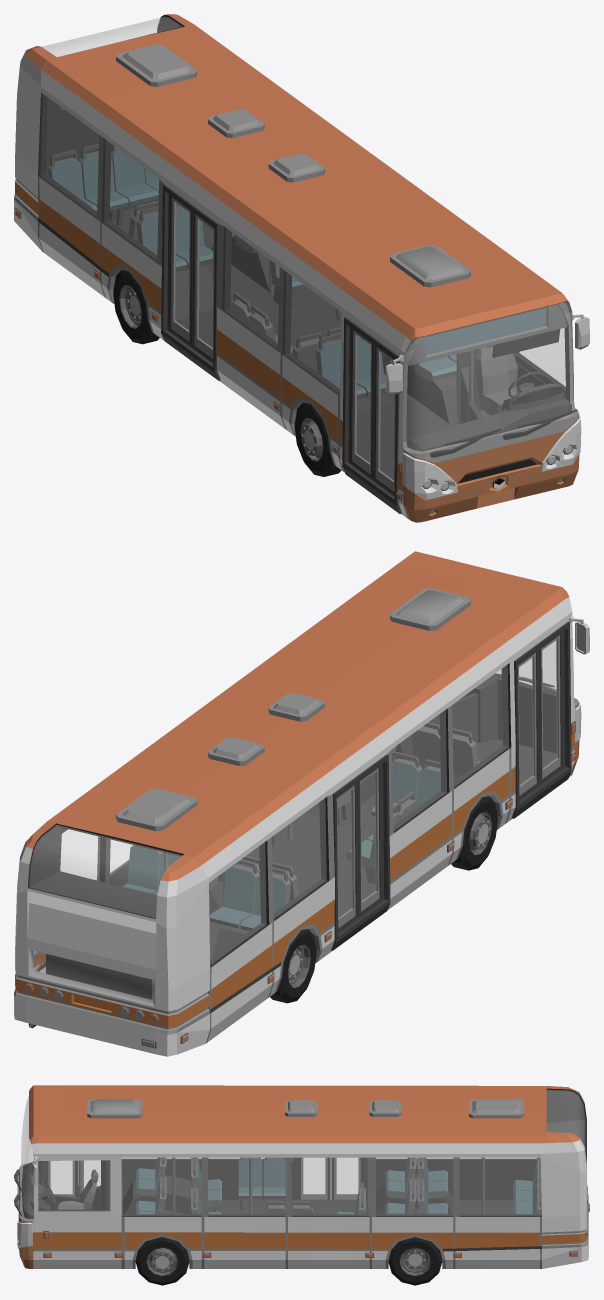
Rendered from city-bus.glb.
The picture shows the model from 3 angles, top to bottom: view 1: azimuth 30°, elevation 25°; view 2: azimuth 150°, elevation 25°; view 3: azimuth 270°, elevation 25°; orthographic projection. The views are drawn at different scales.
Parts seen in each view (by area): view 1: city-bus; view 2: city-bus; view 3: city-bus.
Boxes of the visible parts, bbox=[...] form: city-bus: bbox=[14, 14, 589, 522]; city-bus: bbox=[14, 551, 589, 1056]; city-bus: bbox=[14, 1085, 589, 1285].
Bounding box in the file's own units: 3.24 × 3.35 × 11.43.
Materials: 2 (1 with a texture image).
